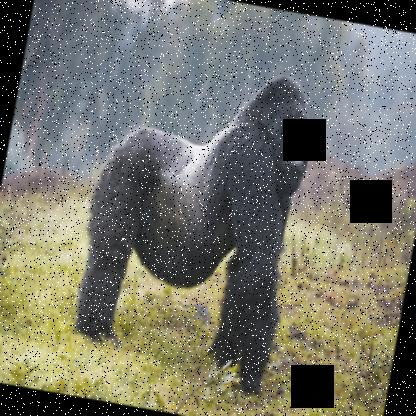Gorilla gorilla: (61, 45, 322, 398)
